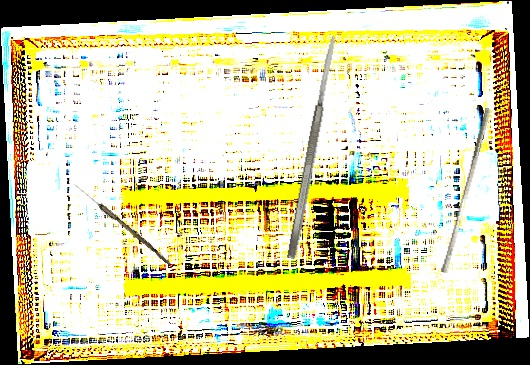Pusher: (440, 106, 492, 275)
Spatula Surgical: (284, 34, 341, 260)
Surgical Spoon: (72, 182, 173, 266)
